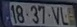1: (9, 3, 17, 24)
3: (29, 4, 39, 24)
7: (37, 4, 46, 25)
8: (14, 3, 25, 23)
L: (58, 5, 69, 26)
V: (49, 5, 60, 26)
